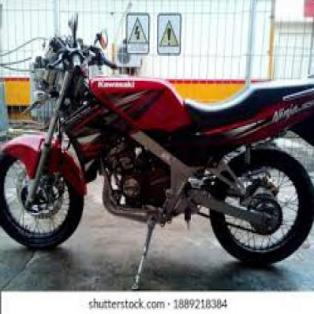Motocicleta: (0, 6, 313, 268)
